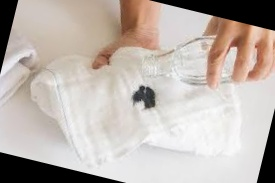ink: (130, 84, 158, 110)
